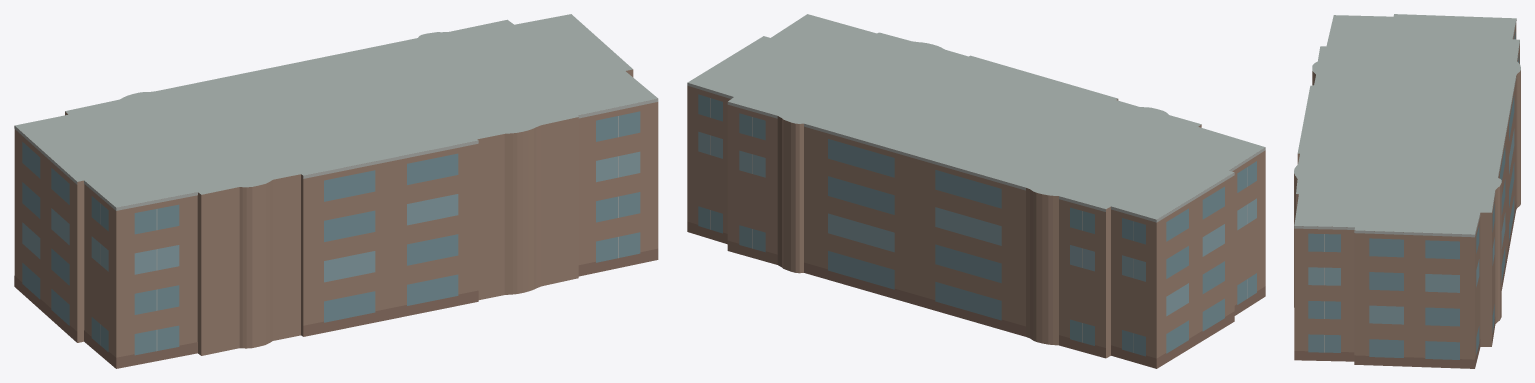
File: survey-upis-32832599.glb
3 views of the same model, side by side, from view 1: azimuth 30°, elevation 25°; view 2: azimuth 150°, elevation 25°; view 3: azimuth 270°, elevation 25° (orthographic). The views are drawn at different scales.
Visible parts, largest first — view 1: survey-upis-32832599.tmp; view 2: survey-upis-32832599.tmp; view 3: survey-upis-32832599.tmp.
Part boxes in pixels (x1=…): survey-upis-32832599.tmp: x1=14, y1=14, x2=658, y2=368; survey-upis-32832599.tmp: x1=687, y1=14, x2=1265, y2=368; survey-upis-32832599.tmp: x1=1294, y1=14, x2=1520, y2=368.
Bounding box in the file's own units: 42.97 × 12.2 × 18.68.
